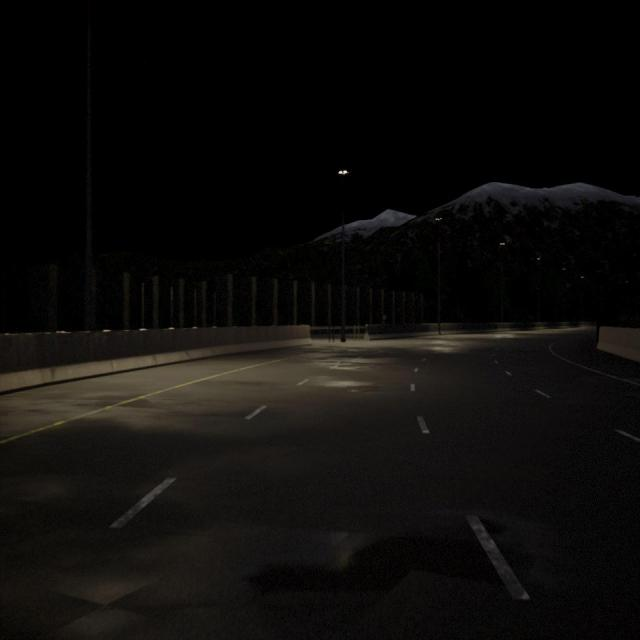Traffic_Signs: (382, 315, 386, 319)
